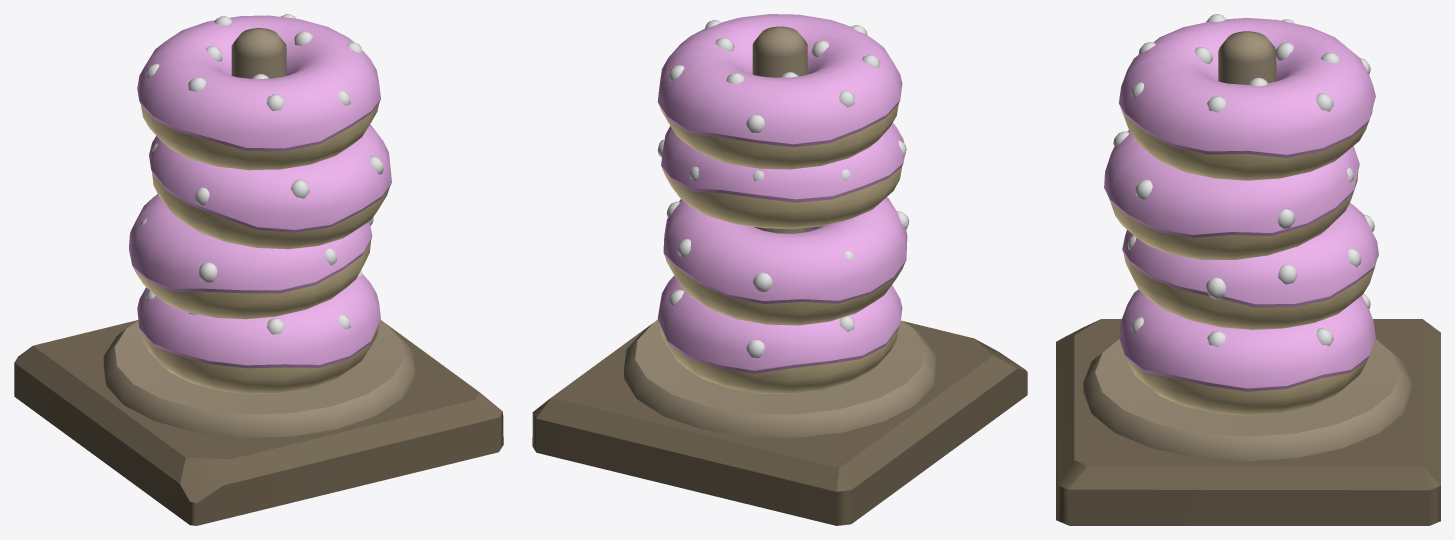
Rendered from SM_DonutTower.fbx.
The picture shows the model from 3 angles, left to right: view 1: azimuth 30°, elevation 25°; view 2: azimuth 150°, elevation 25°; view 3: azimuth 270°, elevation 25°; orthographic projection. The views are drawn at different scales.
Visible parts, largest first — view 1: group3_pSphere21; view 2: group3_pSphere21; view 3: group3_pSphere21.
Boxes of the visible parts, box(x1,y1,x2,y2) form: group3_pSphere21: box(14, 14, 503, 525); group3_pSphere21: box(532, 14, 1027, 525); group3_pSphere21: box(1056, 14, 1440, 525).
Bounding box in the file's own units: 100 × 118 × 100.
